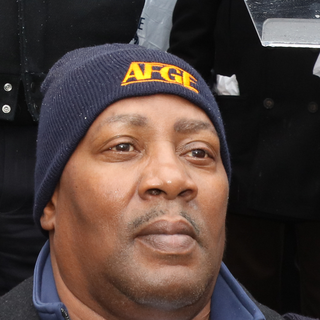eye: (99, 136, 145, 162), (177, 143, 217, 167)
